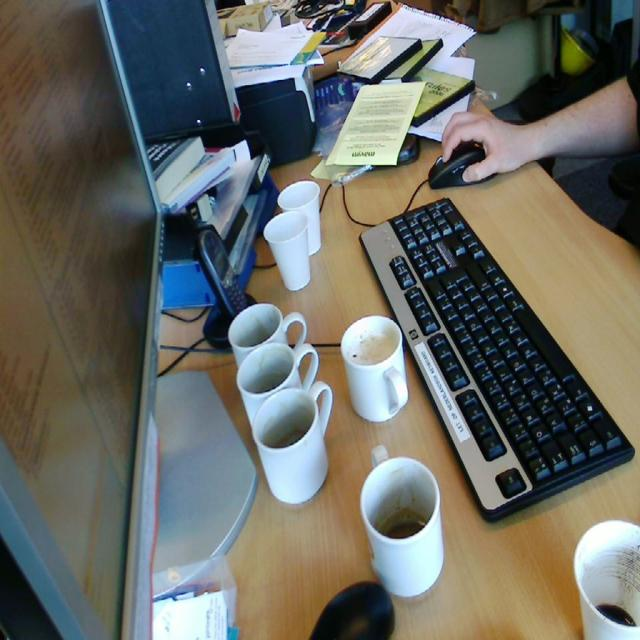Computer-mouse: (306, 578, 398, 640), (430, 139, 497, 189)
